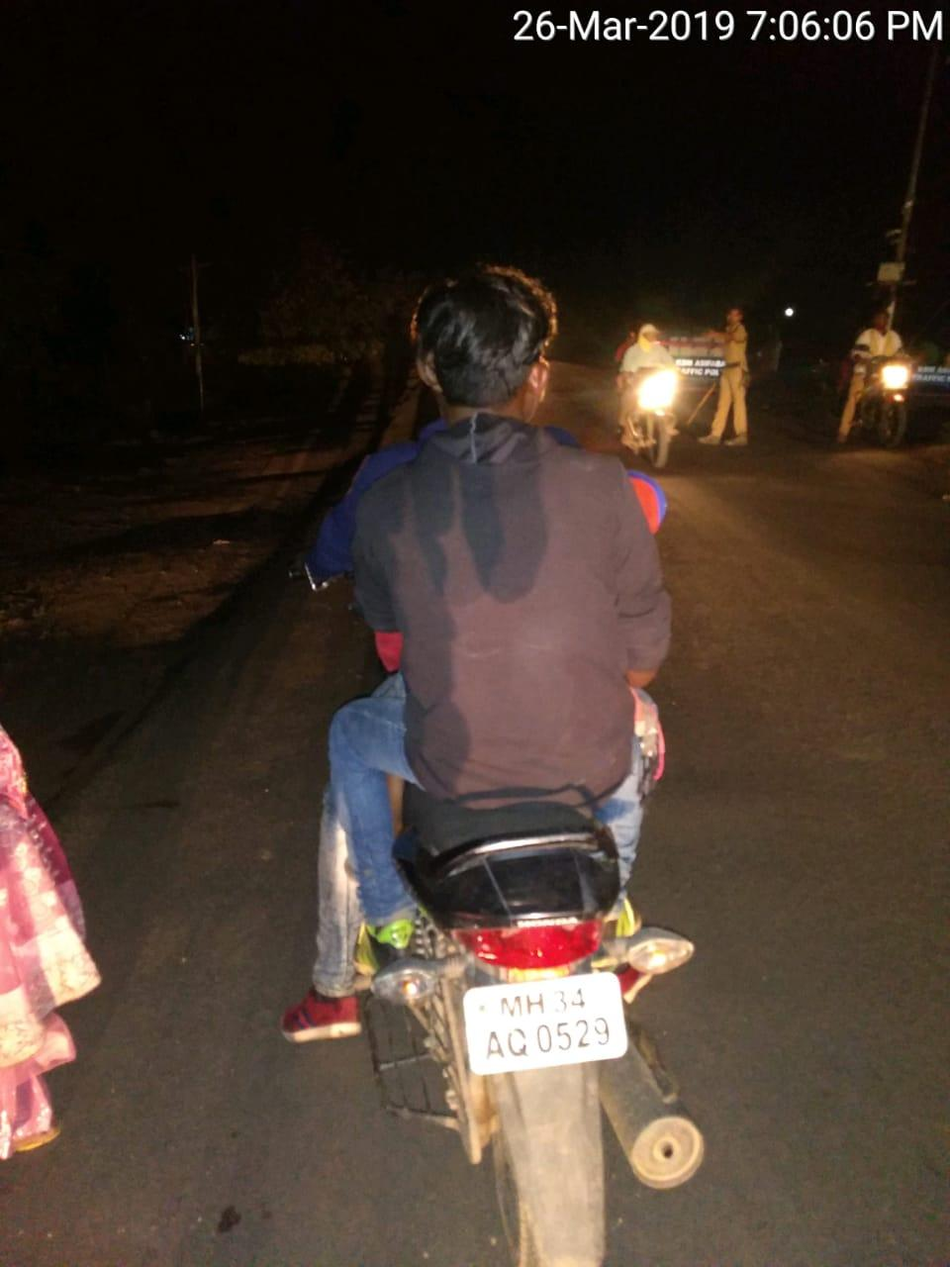plate: (427, 954, 672, 1092)
